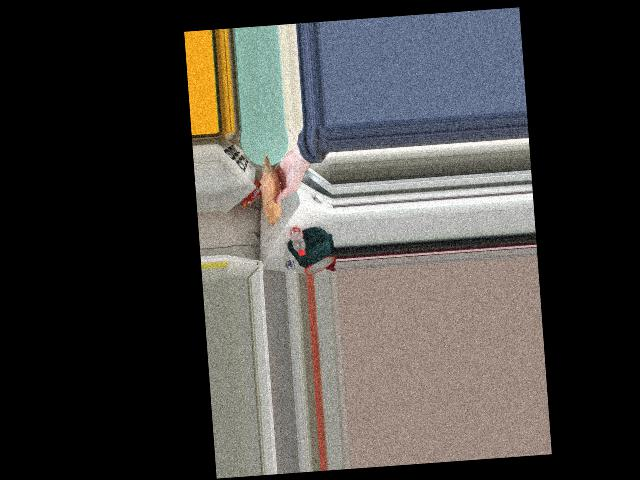sweet_potato: (260, 163, 281, 224)
